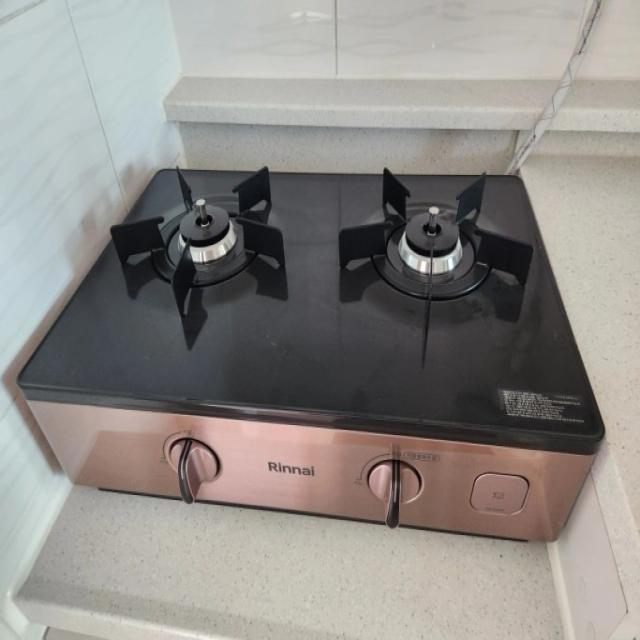knob_ON: (111, 154, 582, 375)
